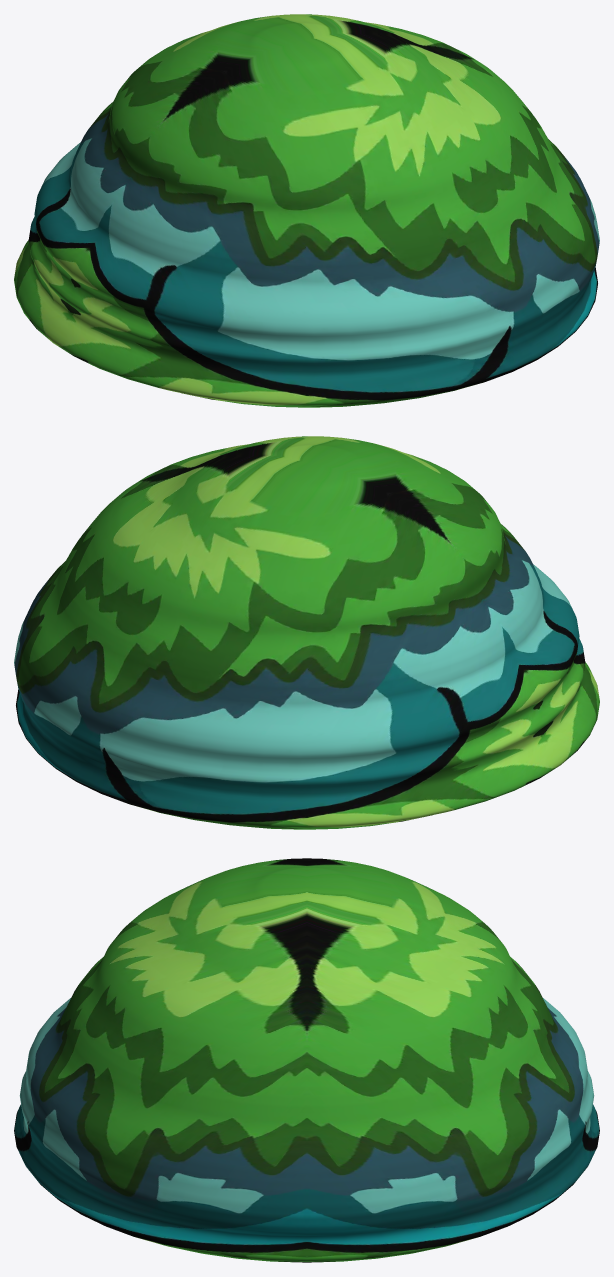
Rendered from moss_boulder.glb.
The picture shows the model from 3 angles, top to bottom: view 1: azimuth 30°, elevation 25°; view 2: azimuth 150°, elevation 25°; view 3: azimuth 270°, elevation 25°; orthographic projection.
Visible parts, largest first — view 1: moss_boulder; view 2: moss_boulder; view 3: moss_boulder.
Boxes of the visible parts, x1=… form: moss_boulder: x1=14, y1=14, x2=599, y2=407; moss_boulder: x1=14, y1=436, x2=599, y2=829; moss_boulder: x1=14, y1=858, x2=599, y2=1262.
Size of the model in its own units: 0.9968 by 0.5432 by 0.989.
1 material, 1 textured.
